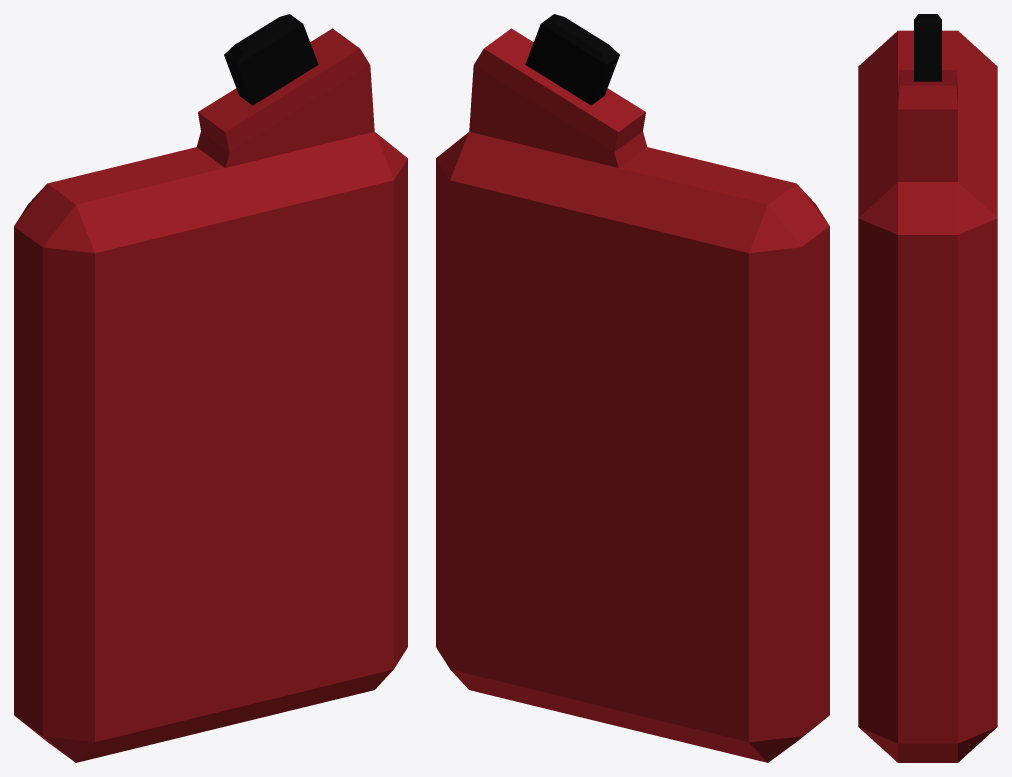
File: fuel.fbx
3 views of the same model, side by side, from view 1: azimuth 30°, elevation 25°; view 2: azimuth 150°, elevation 25°; view 3: azimuth 270°, elevation 25° (orthographic). The views are drawn at different scales.
Parts seen in each view (by area): view 1: Cube.001; view 2: Cube.001; view 3: Cube.001.
Part boxes in pixels (x1=…): Cube.001: x1=14, y1=14, x2=407, y2=762; Cube.001: x1=436, y1=14, x2=829, y2=762; Cube.001: x1=858, y1=14, x2=997, y2=762.
Bounding box in the file's own units: 336 × 596 × 107.
